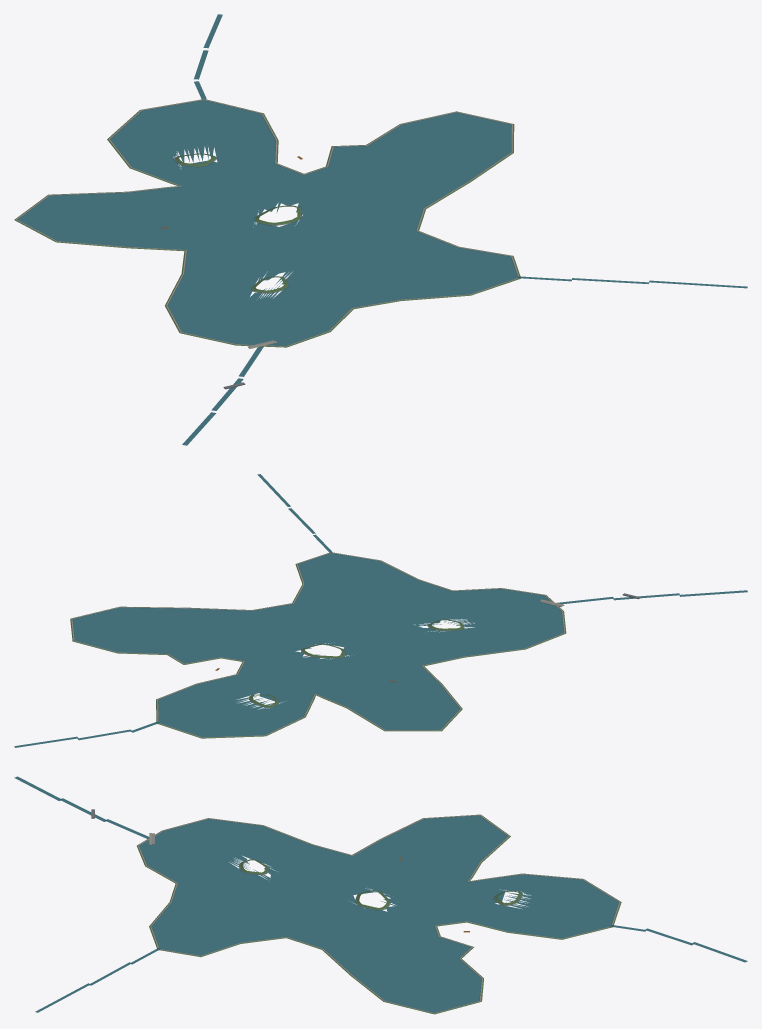
File: water_ho_suoi_vang.glb
The picture shows the model from 3 angles, top to bottom: view 1: azimuth 30°, elevation 25°; view 2: azimuth 150°, elevation 25°; view 3: azimuth 270°, elevation 25°; orthographic projection. The views are drawn at different scales.
Visible parts, largest first — view 1: water_surface_water_ho_suoi_vang, shoreline_terrain_transition_verge_water_ho_suoi_vang, lakeside_promenade_walkway_water_ho_suoi_vang, embankment_stone_coping_water_ho_suoi_vang; view 2: water_surface_water_ho_suoi_vang, shoreline_terrain_transition_verge_water_ho_suoi_vang, lakeside_promenade_walkway_water_ho_suoi_vang, embankment_stone_coping_water_ho_suoi_vang, headwater_terraces_stream_outflow_ankroet_cascade; view 3: water_surface_water_ho_suoi_vang, shoreline_terrain_transition_verge_water_ho_suoi_vang, lakeside_promenade_walkway_water_ho_suoi_vang, embankment_stone_coping_water_ho_suoi_vang, headwater_terraces_stream_outflow_ankroet_cascade, headwater_terraces_stream_headwater_krong_no_bac.
Boxes of the visible parts, bbox=[...] form: water_surface_water_ho_suoi_vang: bbox=[17, 100, 517, 345]; shoreline_terrain_transition_verge_water_ho_suoi_vang: bbox=[14, 99, 520, 347]; lakeside_promenade_walkway_water_ho_suoi_vang: bbox=[16, 99, 519, 346]; embankment_stone_coping_water_ho_suoi_vang: bbox=[17, 100, 518, 346]; water_surface_water_ho_suoi_vang: bbox=[72, 553, 563, 737]; shoreline_terrain_transition_verge_water_ho_suoi_vang: bbox=[70, 552, 566, 738]; lakeside_promenade_walkway_water_ho_suoi_vang: bbox=[71, 552, 565, 737]; embankment_stone_coping_water_ho_suoi_vang: bbox=[72, 553, 564, 737]; headwater_terraces_stream_outflow_ankroet_cascade: bbox=[557, 590, 747, 604]; water_surface_water_ho_suoi_vang: bbox=[139, 815, 618, 1012]; shoreline_terrain_transition_verge_water_ho_suoi_vang: bbox=[137, 814, 621, 1014]; lakeside_promenade_walkway_water_ho_suoi_vang: bbox=[138, 815, 620, 1013]; embankment_stone_coping_water_ho_suoi_vang: bbox=[139, 815, 619, 1013]; headwater_terraces_stream_outflow_ankroet_cascade: bbox=[14, 776, 149, 838]; headwater_terraces_stream_headwater_krong_no_bac: bbox=[610, 925, 747, 962].
Size of the model in its own units: 2813 by 47 by 3576.
